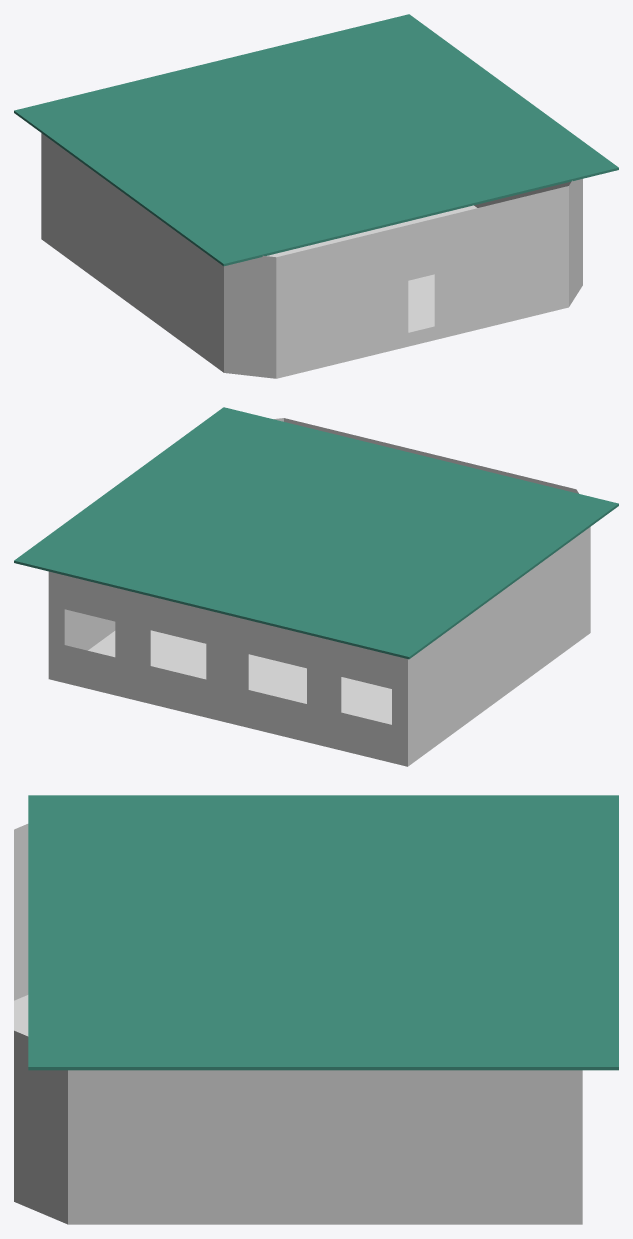
The model's file is Lvl2Environment.FBX.
3 views of the same model, one above another, from view 1: azimuth 30°, elevation 25°; view 2: azimuth 150°, elevation 25°; view 3: azimuth 270°, elevation 25° (orthographic). The views are drawn at different scales.
Visible parts, largest first — view 1: Floor003, Lvl2; view 2: Floor003, Lvl2; view 3: Floor003, Lvl2.
Boxes of the visible parts, bbox=[...] form: Floor003: bbox=[14, 14, 618, 266]; Lvl2: bbox=[41, 133, 582, 378]; Floor003: bbox=[14, 407, 618, 659]; Lvl2: bbox=[48, 418, 590, 766]; Floor003: bbox=[28, 795, 618, 1070]; Lvl2: bbox=[14, 824, 582, 1224].
Size of the model in its own units: 1132 by 336 by 1065.
